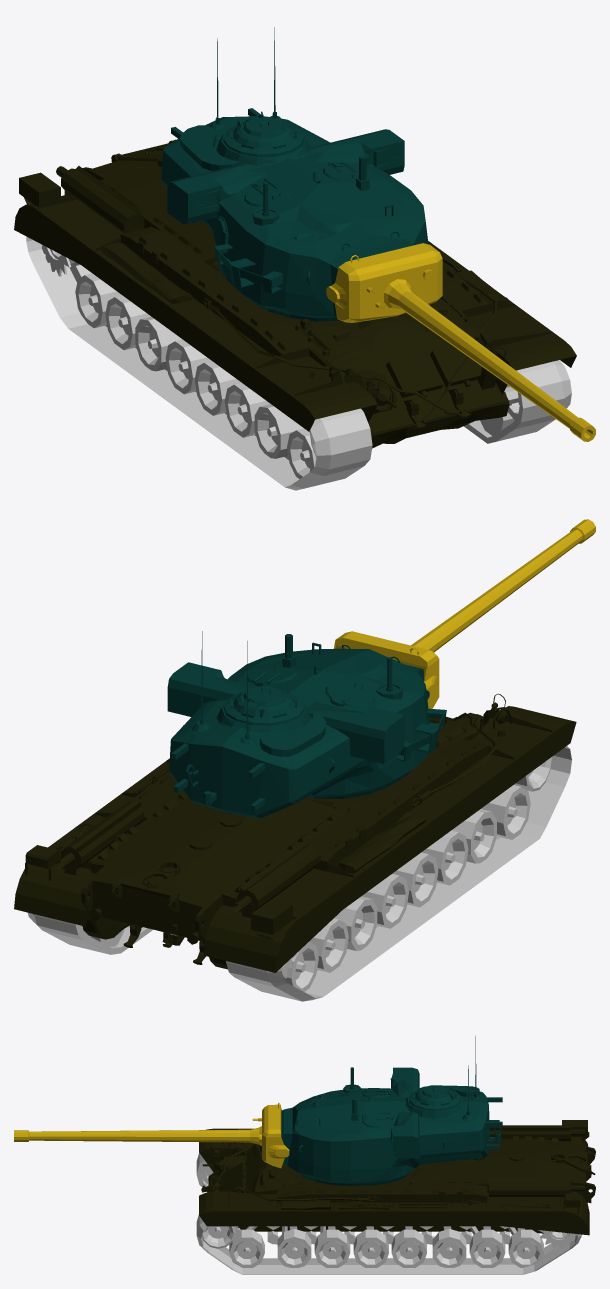
Rendered from tank.obj.
3 renders of one model, top to bottom at view 1: azimuth 30°, elevation 25°; view 2: azimuth 150°, elevation 25°; view 3: azimuth 270°, elevation 25°, orthographic. The views are drawn at different scales.
Parts seen in each view (by area): view 1: Hull_Object_1.001, Turret_Object_1.002, Track_Right_Object_2, Gun_Object_1.003, Object_5, Wheels_Right_Object_6, Track_Left_Object_1, Wheels_Left_Object_4; view 2: Hull_Object_1.001, Turret_Object_1.002, Track_Right_Object_2, Wheels_Right_Object_6, Gun_Object_1.003, Object_5, Track_Left_Object_1; view 3: Hull_Object_1.001, Turret_Object_1.002, Wheels_Left_Object_4, Object_3, Track_Left_Object_1, Gun_Object_1.003.
Part boxes in pixels (x1=…): Hull_Object_1.001: x1=14, y1=139, x2=576, y2=448; Turret_Object_1.002: x1=161, y1=27, x2=428, y2=321; Track_Right_Object_2: x1=26, y1=236, x2=372, y2=490; Gun_Object_1.003: x1=326, y1=243, x2=595, y2=441; Object_5: x1=42, y1=245, x2=211, y2=394; Wheels_Right_Object_6: x1=194, y1=361, x2=316, y2=479; Track_Left_Object_1: x1=464, y1=360, x2=571, y2=443; Wheels_Left_Object_4: x1=480, y1=385, x2=519, y2=435; Hull_Object_1.001: x1=14, y1=693, x2=576, y2=972; Turret_Object_1.002: x1=167, y1=631, x2=446, y2=818; Track_Right_Object_2: x1=226, y1=746, x2=571, y2=1001; Wheels_Right_Object_6: x1=392, y1=757, x2=552, y2=907; Gun_Object_1.003: x1=334, y1=519, x2=595, y2=708; Object_5: x1=281, y1=874, x2=408, y2=991; Track_Left_Object_1: x1=28, y1=912, x2=152, y2=954; Hull_Object_1.001: x1=199, y1=1120, x2=595, y2=1235; Turret_Object_1.002: x1=281, y1=1036, x2=502, y2=1185; Wheels_Left_Object_4: x1=202, y1=1226, x2=388, y2=1267; Object_3: x1=380, y1=1226, x2=576, y2=1267; Track_Left_Object_1: x1=196, y1=1215, x2=581, y2=1274; Gun_Object_1.003: x1=14, y1=1103, x2=289, y2=1168.
Bounding box in the file's own units: 116 × 132 × 343.
